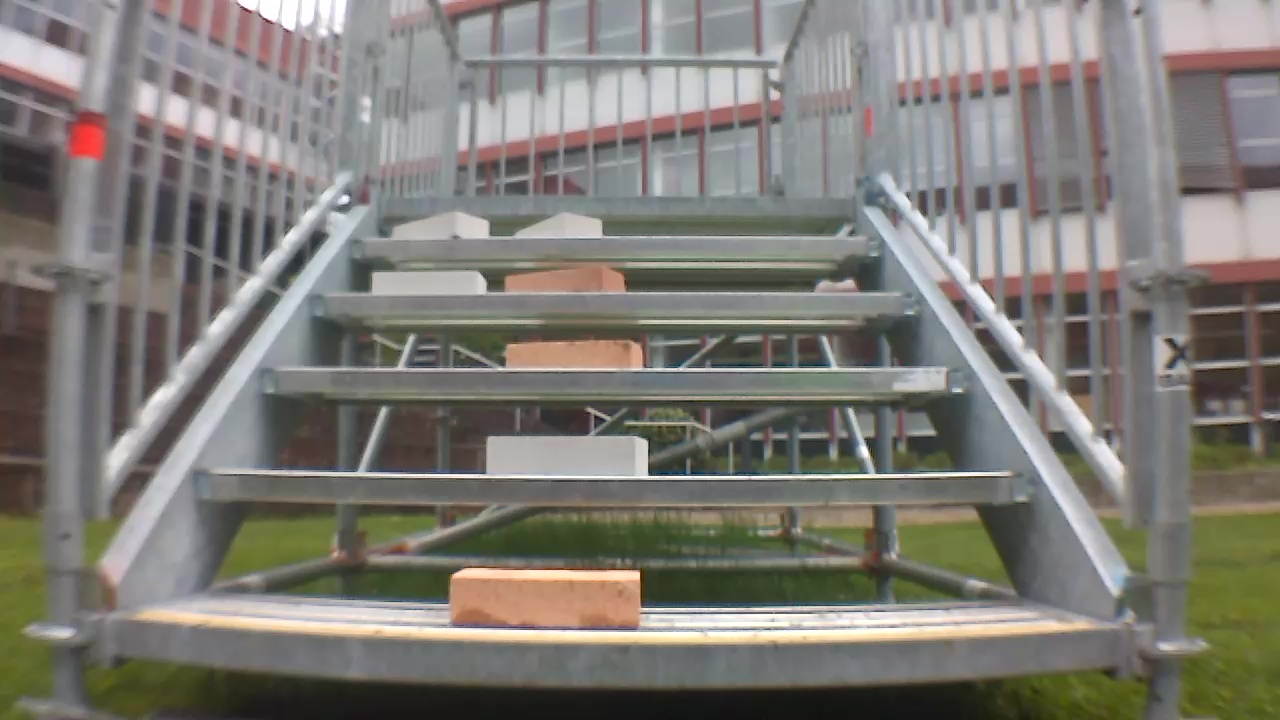brick: (451, 567, 640, 628), (487, 435, 647, 476), (506, 342, 641, 368), (504, 265, 622, 293), (373, 270, 485, 294), (394, 211, 488, 238), (514, 213, 603, 237)
edge: (121, 620, 1119, 686), (191, 472, 1037, 506), (261, 367, 968, 394), (311, 293, 925, 316), (352, 236, 884, 259), (383, 195, 854, 216)
stairs: (31, 2, 1199, 717)
steps: (112, 189, 1130, 693)
